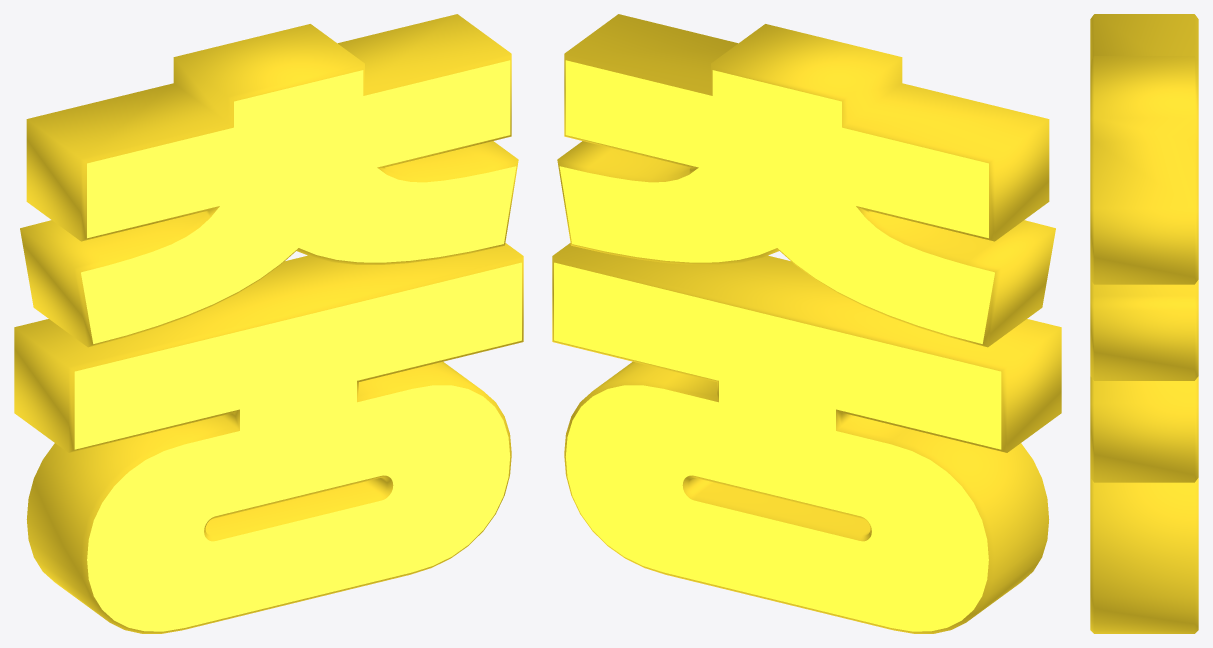
Rendered from u_cda9_y.glb.
3 renders of one model, left to right at view 1: azimuth 30°, elevation 25°; view 2: azimuth 150°, elevation 25°; view 3: azimuth 270°, elevation 25°, orthographic. The views are drawn at different scales.
Parts seen in each view (by area): view 1: glyph; view 2: glyph; view 3: glyph.
Boxes of the visible parts, x1,y1,x2,y2 form: glyph: (14, 14, 523, 633); glyph: (552, 14, 1061, 633); glyph: (1090, 14, 1198, 633).
Bounding box in the file's own units: 0.0725 × 0.0796 × 0.0162.
